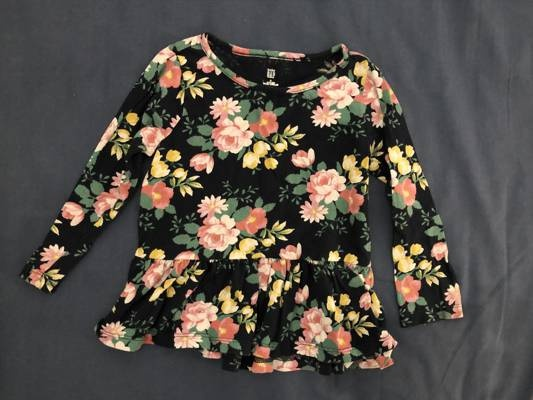Dress: (34, 22, 469, 387)
